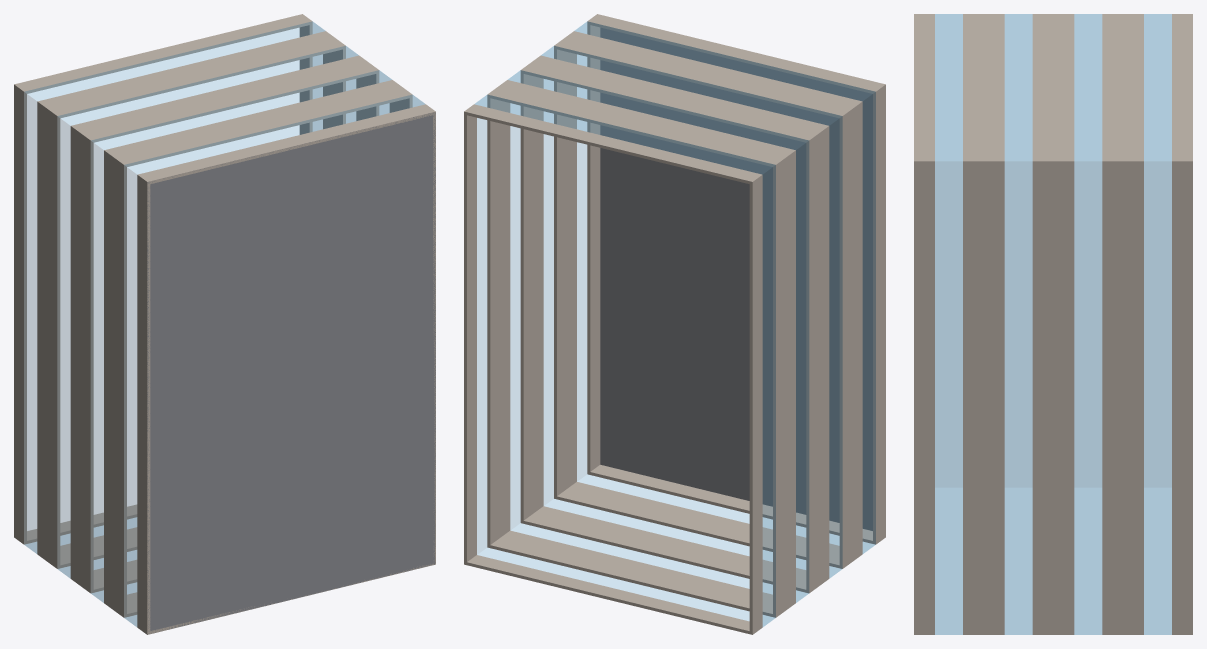
3 views of the same model, side by side, from view 1: azimuth 30°, elevation 25°; view 2: azimuth 150°, elevation 25°; view 3: azimuth 270°, elevation 25° (orthographic). The views are drawn at different scales.
Parts seen in each view (by area): view 1: Atap_Beton, Dinding_Bata, Kaca_Jendela; view 2: Dinding_Bata, Atap_Beton, Kaca_Jendela; view 3: Dinding_Bata, Kaca_Jendela.
Part boxes in pixels (x1=…): Atap_Beton: x1=147, y1=112, x2=435, y2=634; Dinding_Bata: x1=14, y1=14, x2=435, y2=634; Kaca_Jendela: x1=24, y1=21, x2=424, y2=626; Dinding_Bata: x1=464, y1=14, x2=885, y2=634; Atap_Beton: x1=600, y1=27, x2=872, y2=530; Kaca_Jendela: x1=475, y1=21, x2=875, y2=626; Dinding_Bata: x1=914, y1=14, x2=1192, y2=634; Kaca_Jendela: x1=935, y1=14, x2=1171, y2=634.
Bounding box in the file's own units: 20 × 30 × 16.
